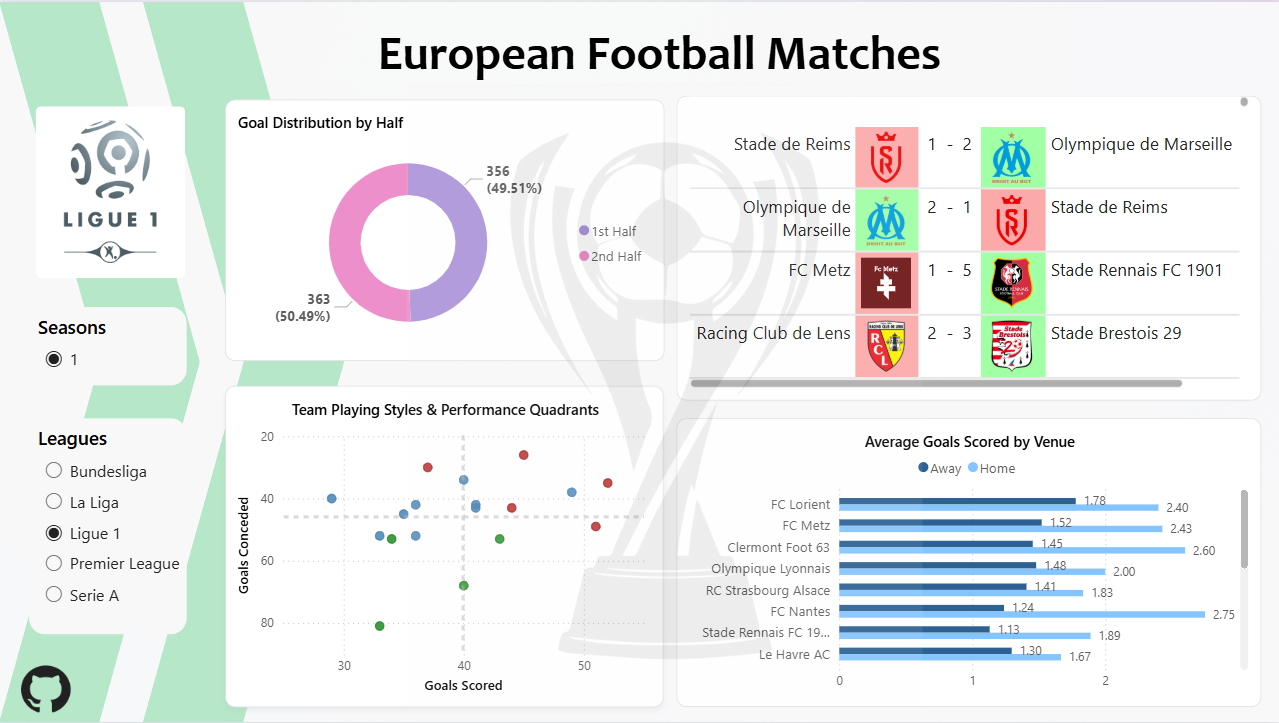

This screenshot's page, from the dashboard's own definition file:
{"tool":"powerbi","page":{"name":"Matches","canvas":[1280,720],"ordinal":1},"visuals":[{"type":"shape","box":[144.3,0,201.4,720],"z":0},{"type":"shape","box":[0,0,201,720.2],"z":1000},{"type":"slicer","title":"Leagues","fields":{"Values":["DWH Dim_League.Name"]},"box":[30,416.2,157.5,216.2],"z":2000},{"type":"cardVisual","fields":{"Data":["Min(DWH Dim_League.leagues.icon_url)"]},"box":[21.2,93.8,175,192.5],"z":3000},{"type":"textbox","box":[373.8,16.2,582.5,77.5],"z":4000},{"type":"image","box":[21.2,662.2,51.4,49.1],"z":5000},{"type":"tableEx","fields":{"Values":["DWH Fact_Scoring_Efficiency.Team Name","DWH Fact_Scoring_Efficiency.Team Image","DWH Fact_Scoring_Efficiency.Goals_total","DWH Fact_Scoring_Efficiency.Separator","DWH Fact_Scoring_Efficiency.Goals_against_total","DWH Fact_Scoring_Efficiency.Opponent Image","DWH Fact_Scoring_Efficiency.Opponent Name","DWH Fact_Scoring_Efficiency.Date_key"]},"box":[677.5,93.8,585,305],"z":6000},{"type":"slicer","title":"Seasons","fields":{"Values":["DWH Fact_Scoring_Efficiency.Season_key"]},"box":[30,305,157.5,78.8],"z":7000},{"type":"clusteredBarChart","title":"Average Goals Scored by Venue","fields":{"Category":["DWH Dim_Team.Name"],"Y":["Avg(DWH Fact_Scoring_Efficiency.Goals_total)"],"Series":["DWH Dim_Scoring_Junk.Venue_type"]},"box":[677.5,416.2,585,288.8],"z":8000},{"type":"scatterChart","title":"Team Playing Styles & Performance Quadrants","fields":{"X":["Sum(DWH Fact_Scoring_Efficiency.Goals_total)"],"Y":["Sum(DWH Fact_Scoring_Efficiency.Goals_against_total)"],"Category":["DWH Dim_Team.Name"]},"box":[226.2,383.8,438.8,321.2],"z":9000},{"type":"donutChart","title":"Goal Distribution by Half","fields":{"Y":["Sum(DWH Fact_Scoring_Efficiency.Goals_1st_half)","Sum(DWH Fact_Scoring_Efficiency.Goals_2nd_half)"]},"box":[226.8,97.7,439.1,261.8],"z":10000},{"type":"image","box":[407.5,82.5,516.2,622.5],"z":10500}]}

Visuals, with their boxes in screenshot pixels (x1, y1, x2, y2), scaled from the page's 1280x720 canvas onto the 1279x723 screenshot:
shape: {"x1": 144, "y1": 0, "x2": 345, "y2": 722}
shape: {"x1": 0, "y1": 0, "x2": 201, "y2": 722}
"Leagues" slicer: {"x1": 30, "y1": 418, "x2": 187, "y2": 635}
cardVisual - Min(DWH Dim_League.leagues.icon_url): {"x1": 21, "y1": 94, "x2": 196, "y2": 287}
textbox: {"x1": 374, "y1": 16, "x2": 956, "y2": 94}
image: {"x1": 21, "y1": 665, "x2": 73, "y2": 714}
tableEx - DWH Fact_Scoring_Efficiency.Team Name x DWH Fact_Scoring_Efficiency.Team Image: {"x1": 677, "y1": 94, "x2": 1262, "y2": 400}
"Seasons" slicer: {"x1": 30, "y1": 306, "x2": 187, "y2": 385}
"Average Goals Scored by Venue" clusteredBarChart: {"x1": 677, "y1": 418, "x2": 1262, "y2": 708}
"Team Playing Styles & Performance Quadrants" scatterChart: {"x1": 226, "y1": 385, "x2": 664, "y2": 708}
"Goal Distribution by Half" donutChart: {"x1": 227, "y1": 98, "x2": 665, "y2": 361}
image: {"x1": 407, "y1": 83, "x2": 923, "y2": 708}
